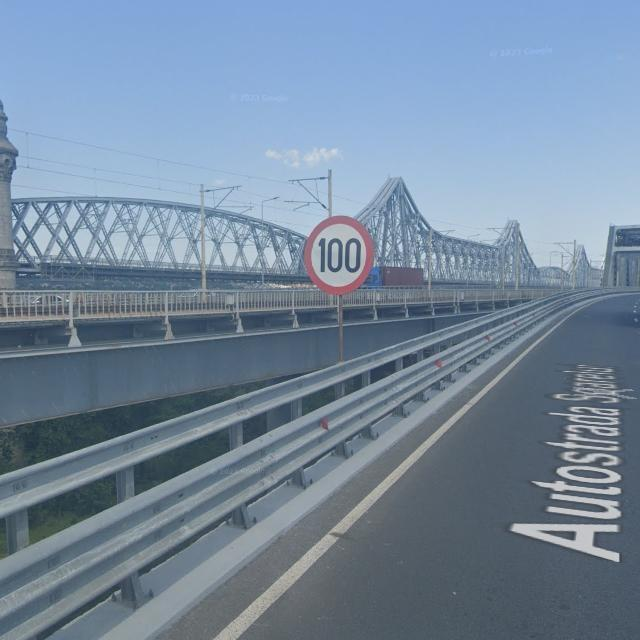forb_speed_over_100: (304, 215, 375, 295)
